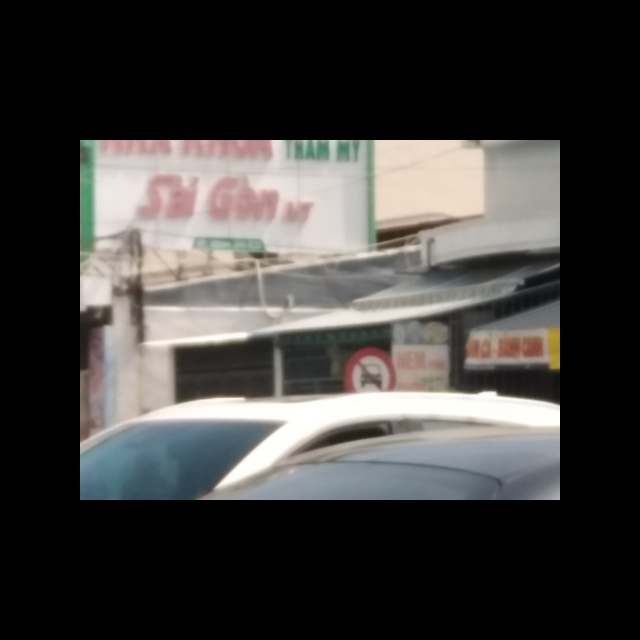Cấm xe ô tô: (343, 344, 398, 395)
